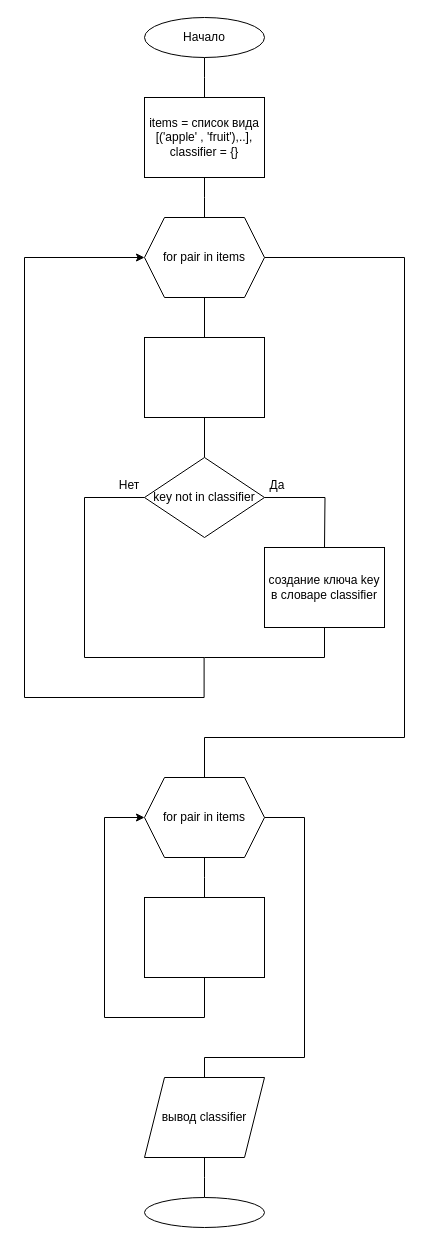
This 423x1245 diagram has some shape labels left out. Here are the shapes that lost their labels. From the top down, the box of each, then its label:
(144, 336, 264, 418): key,value = pair
(144, 896, 264, 978): key,value = pair, добавление в classifier value по ключу key
(144, 1196, 264, 1228): Конец
